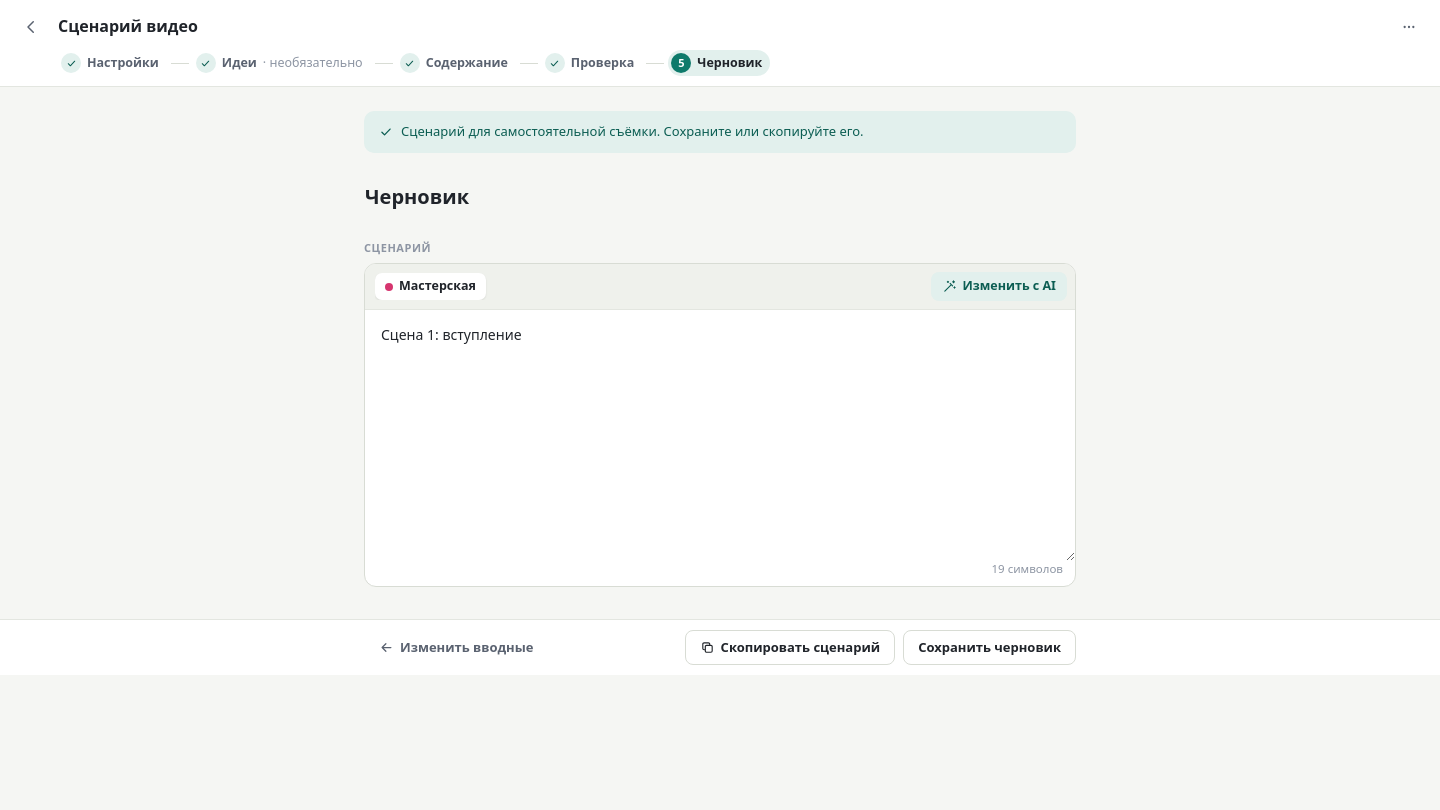
Test case: keeps video scripts separate from publication controls
Expected: the button "Скопировать сценарий" is shown, x1=685 y1=630 x2=895 y2=665
Click the button with aria-label "Изменить текст с AI". click: [999, 286]
box: x1=930 y1=272 x2=1067 y2=300
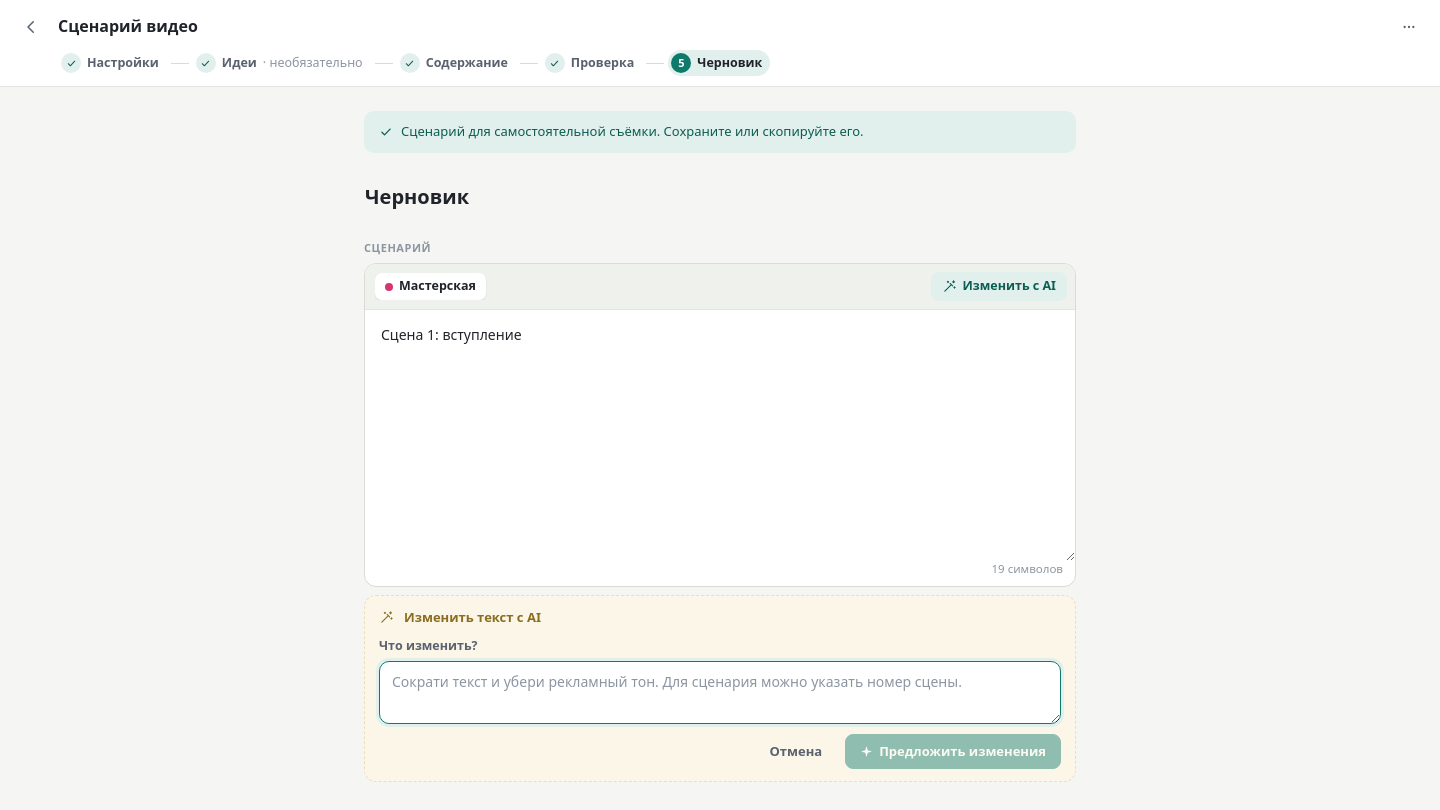
Expected: the text box labelled "Что изменить?" is shown, x1=379 y1=661 x2=1061 y2=724
